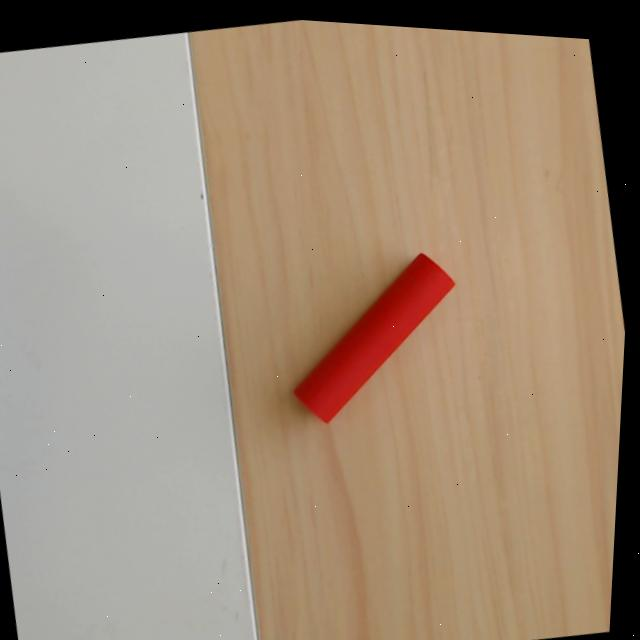Silinder-Merah-10025: (291, 248, 456, 424)
